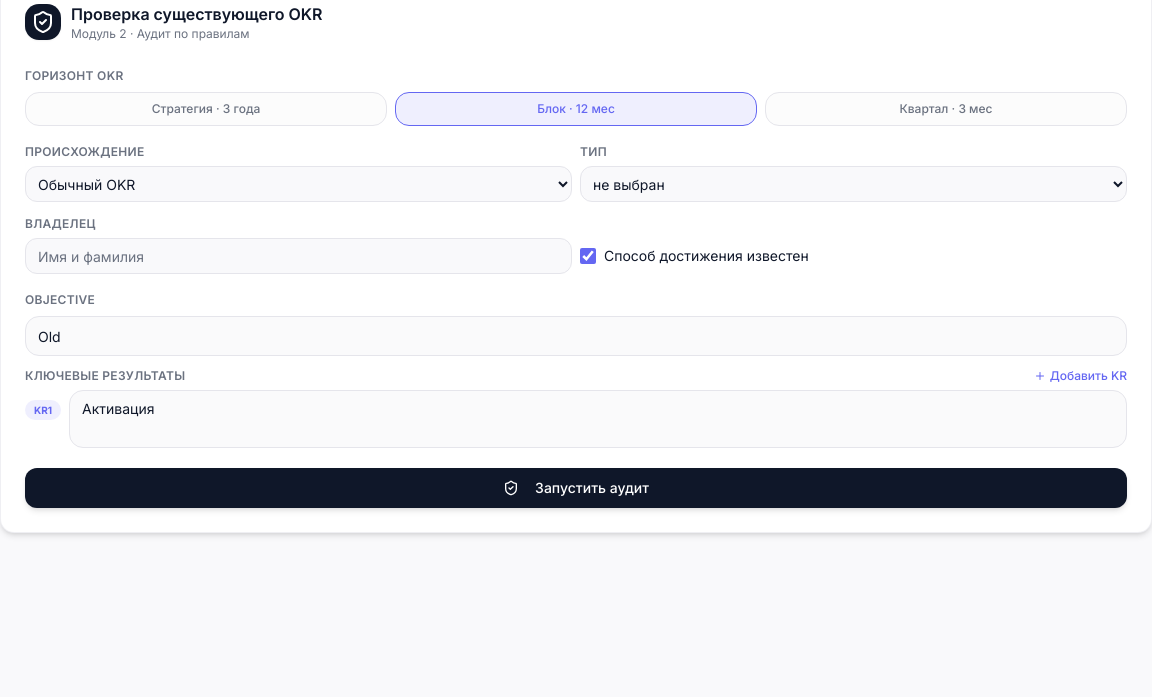
Test case: OkrValidator: coach-mode rendering (mode=fix) › плейсхолдеры X/Y в rewritten подсвечены визуальным маркером
Click the button "Запустить аудит" at (576, 488), box [25,468,1127,508]
(page scrolled)
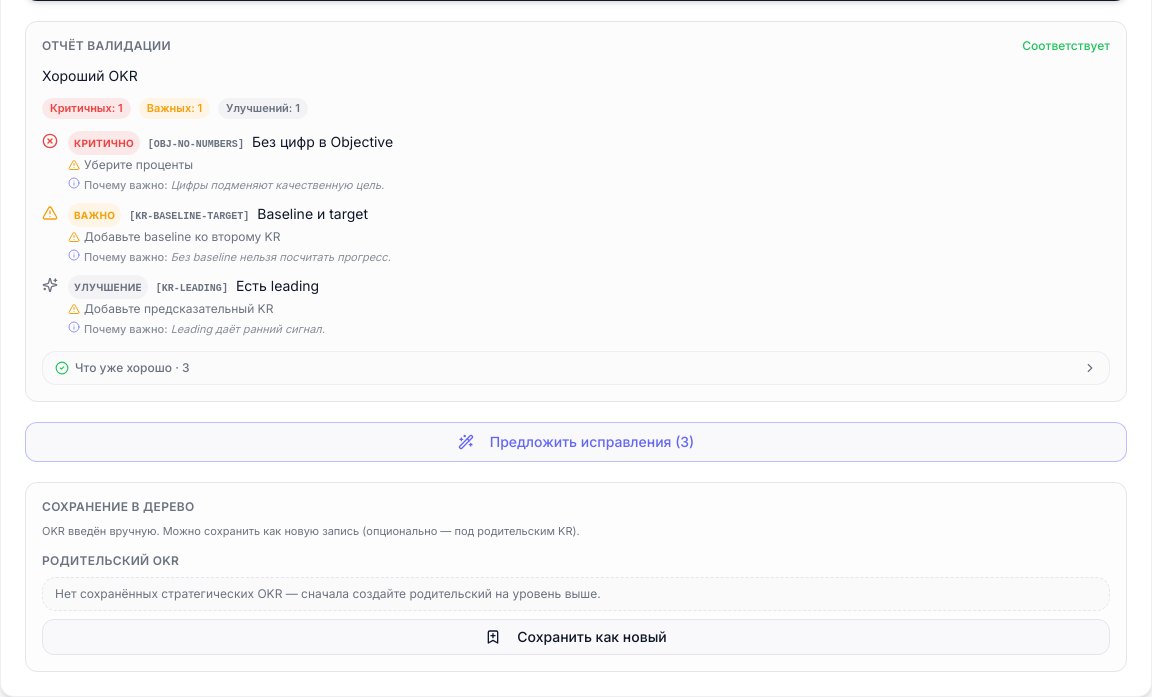
Click the button with test id "request-fix-button" at (576, 442), box [25,422,1127,462]
(page scrolled)
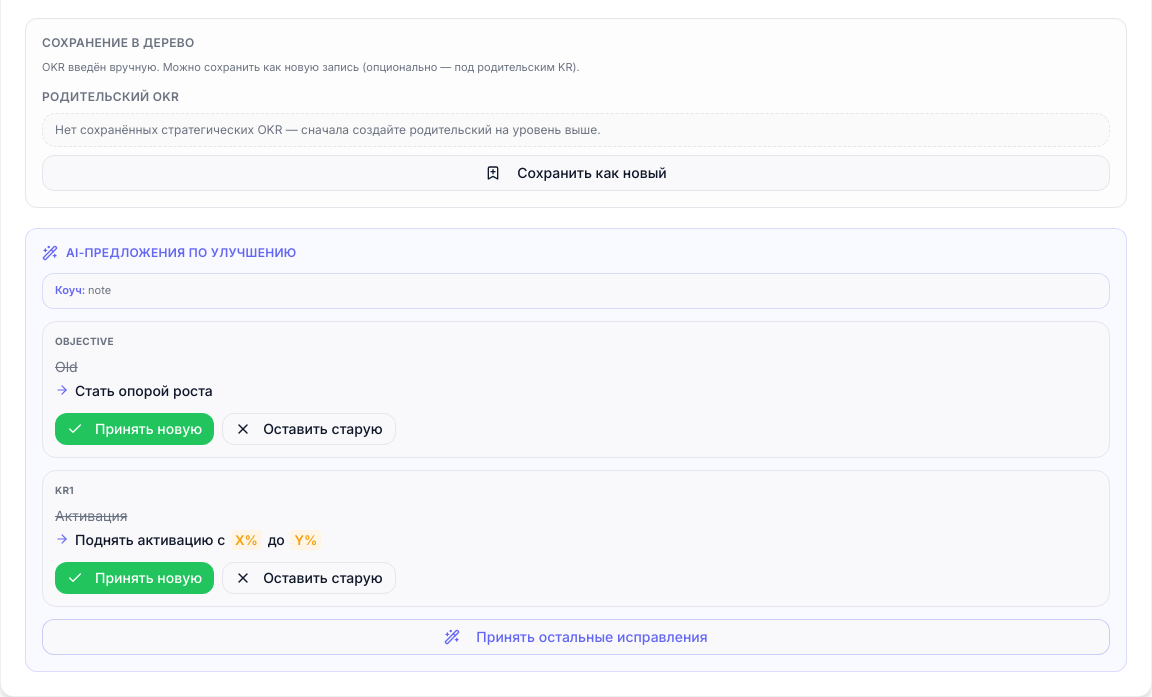
expect the text "Поднять активацию с X% до Y%" is shown: met, box [75,530,323,550]
